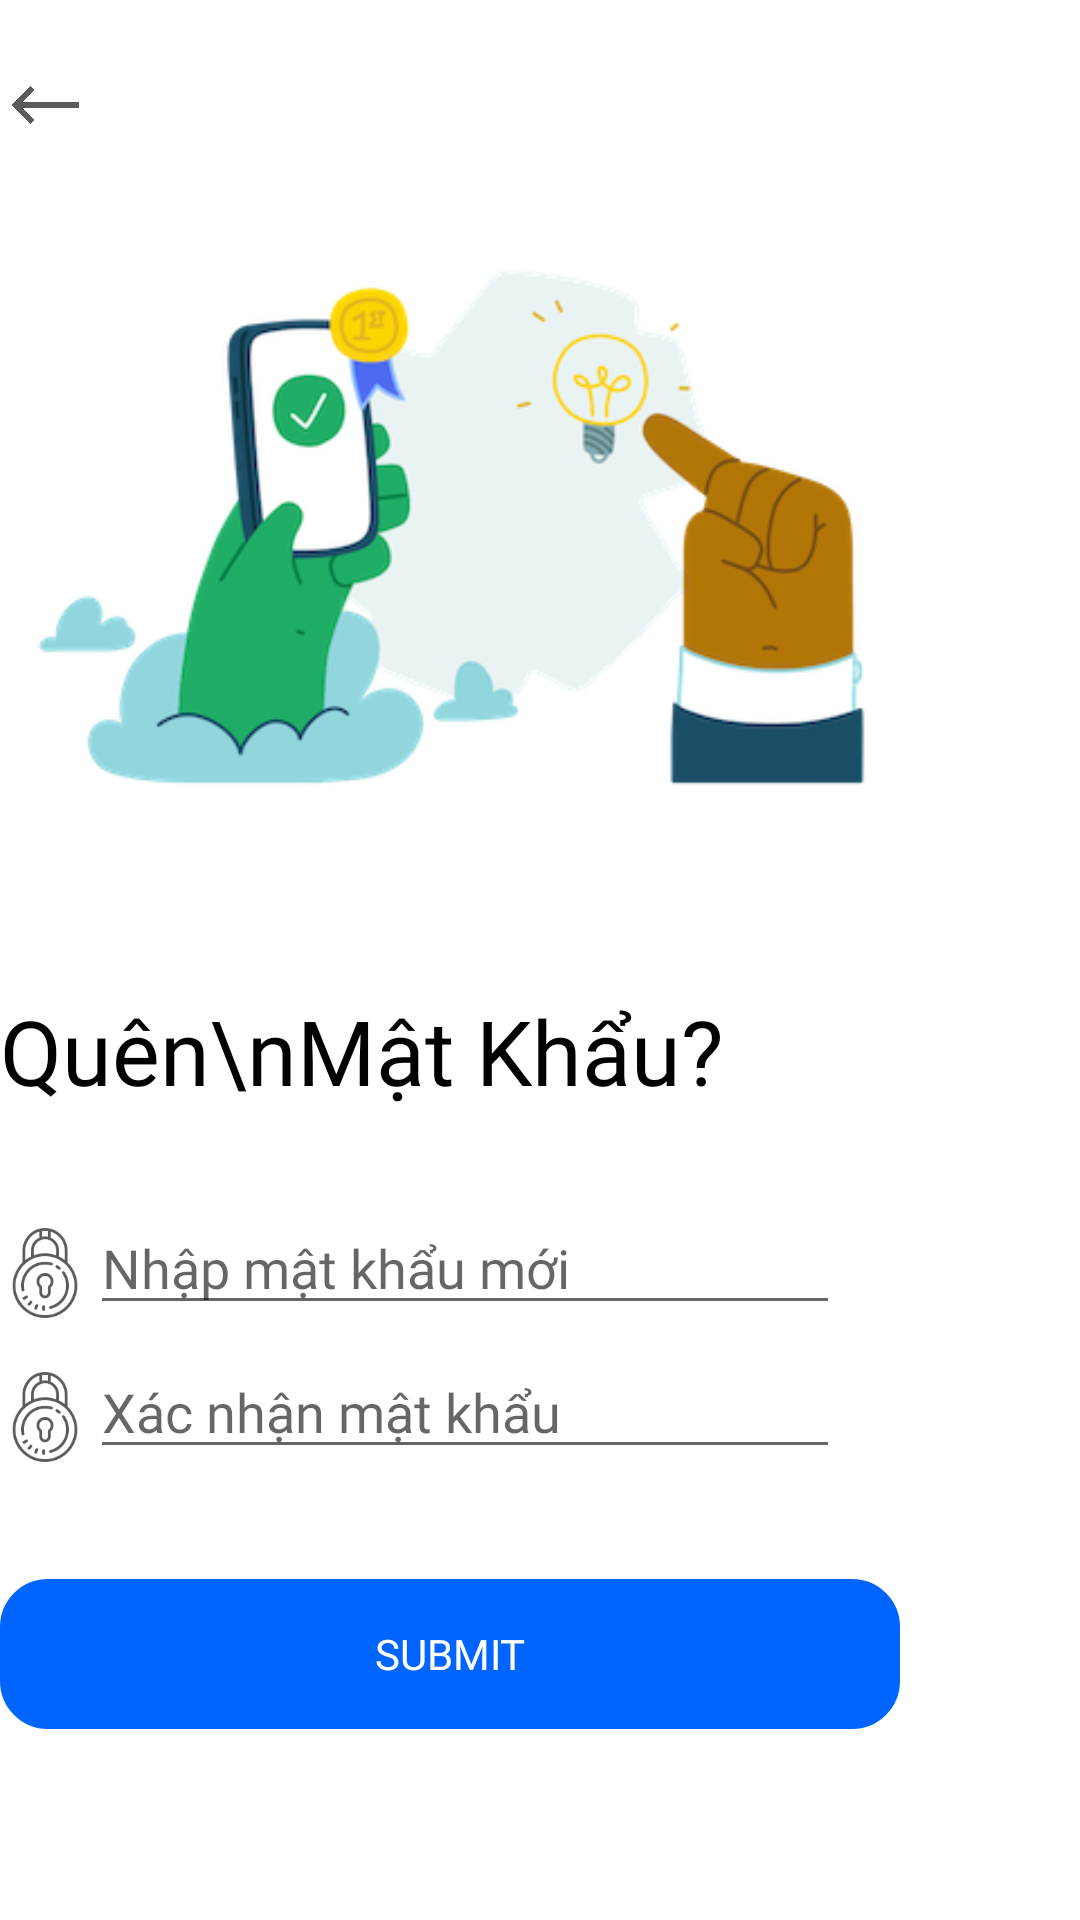

Icon bounding boxes for this 1080px×1920px phone screenshot, format bbox=(x1, y1, x2, y2):
back: bbox=(12, 86, 79, 124)
signin pass: bbox=(12, 1228, 78, 1318), bbox=(12, 1372, 78, 1462)
